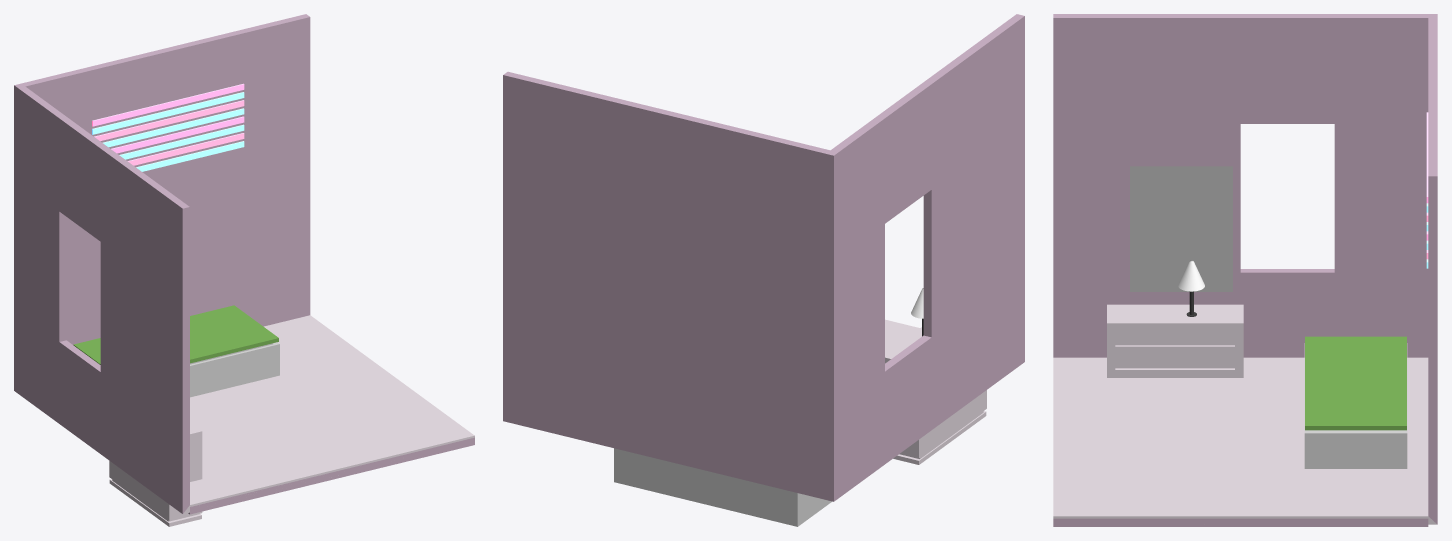
Rendered from room.gltf.
3 views of the same model, side by side, from view 1: azimuth 30°, elevation 25°; view 2: azimuth 150°, elevation 25°; view 3: azimuth 270°, elevation 25° (orthographic). The views are drawn at different scales.
Visible parts, largest first — view 1: house_0, bed_1, shelf_2, Cube.009_8, Cube.010_9, Cube.008_7, Cube.007_6, Cube.006_5, Cube.005_4, Cube.004_3, rgb_10; view 2: house_0, bed_1, shelf_2; view 3: house_0, bed_1, picture_14, shelf_2, lamp_11.
Part boxes in pixels (bbox=[...]): house_0: bbox=[14, 14, 474, 514]; bed_1: bbox=[73, 305, 279, 397]; shelf_2: bbox=[109, 422, 202, 526]; Cube.009_8: bbox=[92, 92, 244, 134]; Cube.010_9: bbox=[92, 83, 244, 126]; Cube.008_7: bbox=[94, 100, 244, 141]; Cube.007_6: bbox=[102, 108, 244, 147]; Cube.006_5: bbox=[111, 116, 244, 153]; Cube.005_4: bbox=[119, 124, 244, 159]; Cube.004_3: bbox=[127, 133, 244, 165]; rgb_10: bbox=[136, 141, 244, 171]; house_0: bbox=[503, 14, 1024, 501]; bed_1: bbox=[614, 448, 831, 526]; shelf_2: bbox=[885, 327, 986, 464]; house_0: bbox=[1053, 14, 1437, 526]; bed_1: bbox=[1304, 336, 1407, 468]; picture_14: bbox=[1130, 166, 1232, 291]; shelf_2: bbox=[1107, 304, 1243, 377]; lamp_11: bbox=[1178, 260, 1204, 316].
Bounding box in the file's own units: 0.8884 × 1.01 × 0.8884.
